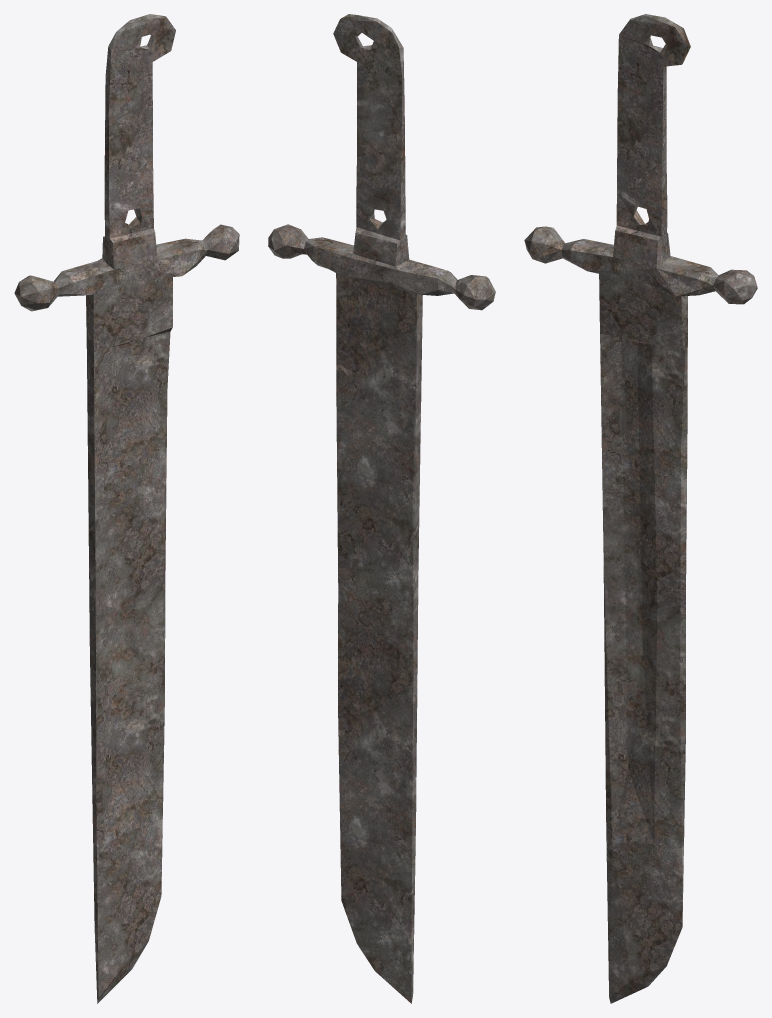
File: smith_sword_2.glb
3 renders of one model, left to right at view 1: azimuth 30°, elevation 25°; view 2: azimuth 150°, elevation 25°; view 3: azimuth 330°, elevation 25°, orthographic. The views are drawn at different scales.
Visible parts, largest first — view 1: LP smith sword; view 2: LP smith sword; view 3: LP smith sword.
Part boxes in pixels (bbox=[...]): LP smith sword: bbox=[14, 14, 239, 1003]; LP smith sword: bbox=[268, 14, 495, 1003]; LP smith sword: bbox=[524, 14, 757, 1003].
Bounding box in the file's own units: 0.2164 × 0.9123 × 0.0332.
Materials: 1 (1 with a texture image).
